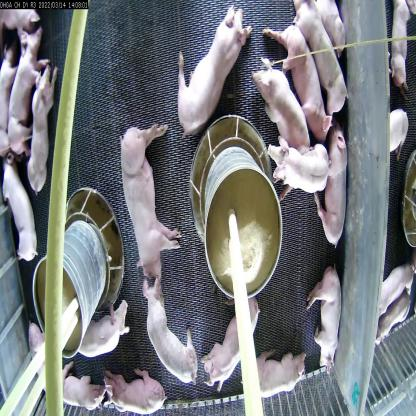Pig: (116, 112, 182, 284), (171, 5, 247, 129), (145, 282, 207, 386), (299, 0, 354, 107), (254, 60, 314, 153), (22, 64, 70, 179), (275, 27, 330, 127), (196, 303, 264, 380), (0, 154, 48, 259), (240, 349, 309, 412), (316, 138, 359, 239), (308, 258, 340, 383), (8, 26, 44, 136), (70, 288, 124, 357), (109, 353, 167, 416), (278, 137, 334, 202), (51, 369, 109, 416)
